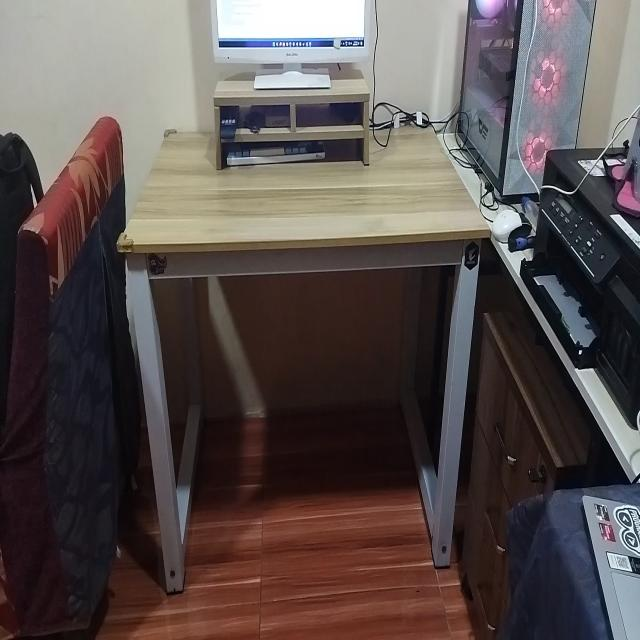table: (115, 120, 491, 597)
